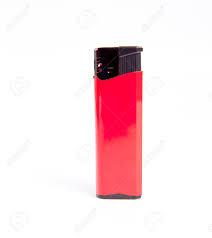lighter: (95, 45, 143, 197)
